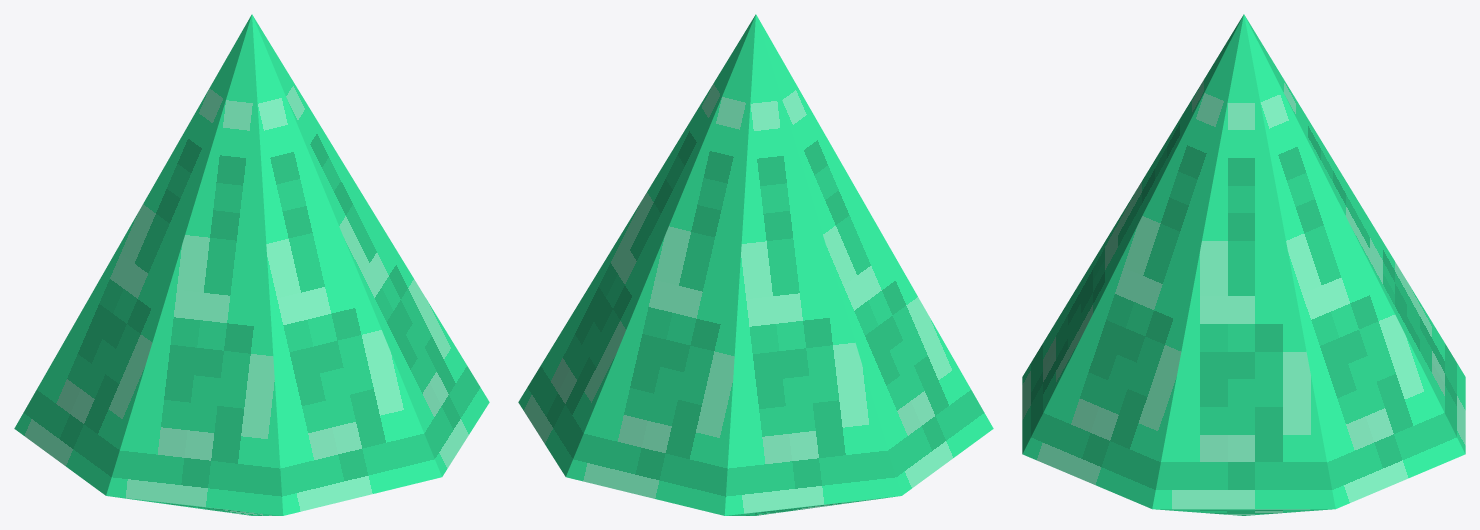
Rendered from Crystal.fbx.
3 views of the same model, side by side, from view 1: azimuth 30°, elevation 25°; view 2: azimuth 150°, elevation 25°; view 3: azimuth 270°, elevation 25° (orthographic).
Parts seen in each view (by area): view 1: Crystal4; view 2: Crystal4; view 3: Crystal4.
Part boxes in pixels (left/top/right/bottom): Crystal4: left=14, top=14, right=489, bottom=515; Crystal4: left=518, top=14, right=993, bottom=515; Crystal4: left=1022, top=14, right=1465, bottom=515.
Bounding box in the file's own units: 100 × 125 × 100.
Materials: 1 (1 with a texture image).
